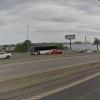Car: (28, 44, 43, 60)
